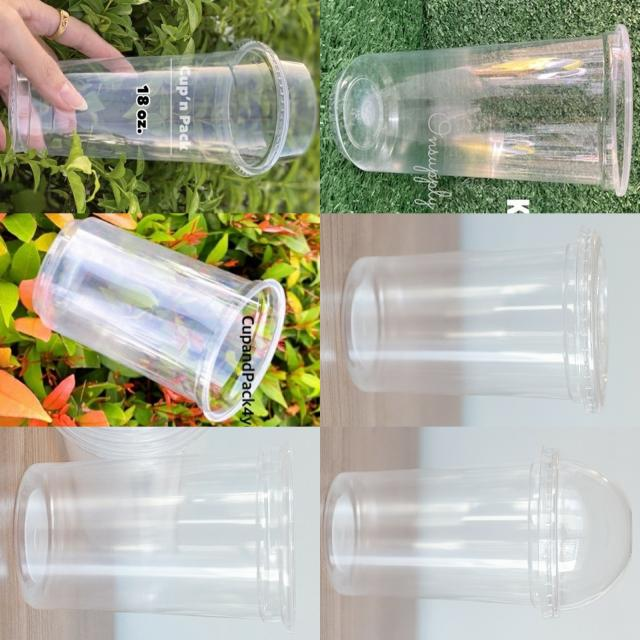Single-Use-Plastic: (325, 448, 632, 617), (329, 25, 632, 195), (15, 446, 294, 629), (34, 218, 285, 419), (342, 228, 608, 412), (9, 40, 318, 176)
